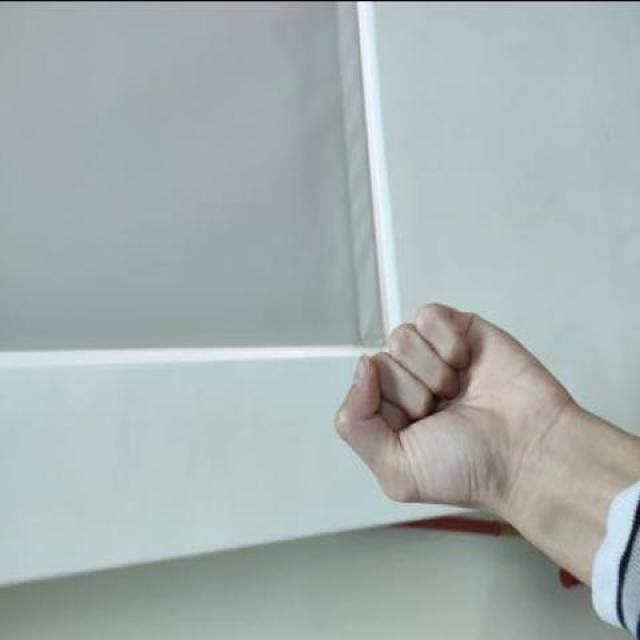Closed Hand: (324, 270, 543, 534)
